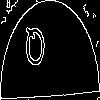Q: (25, 25, 46, 75)
